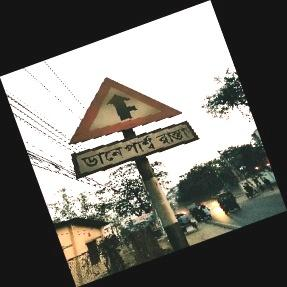Side-road-right: (68, 77, 194, 180)
